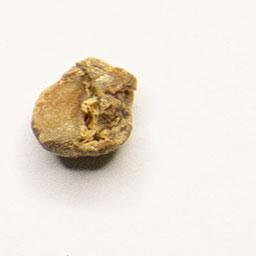defect: (27, 51, 141, 164)
